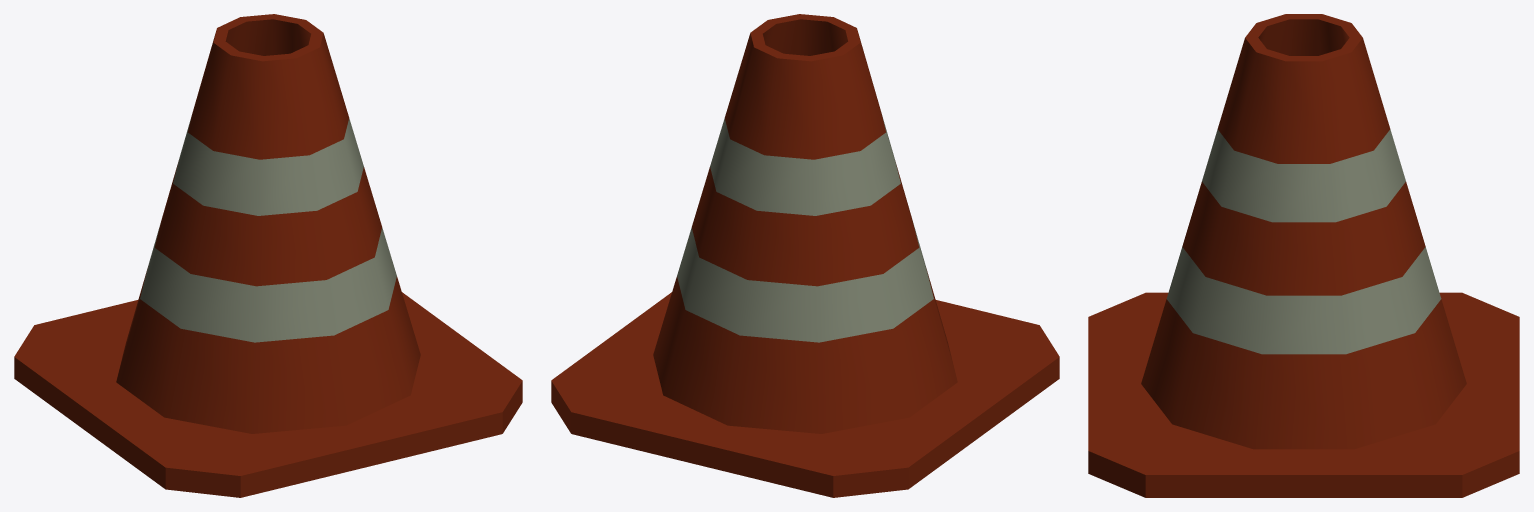
File: TrafficCone.obj
3 views of the same model, side by side, from view 1: azimuth 30°, elevation 25°; view 2: azimuth 150°, elevation 25°; view 3: azimuth 270°, elevation 25° (orthographic). The views are drawn at different scales.
Parts seen in each view (by area): view 1: TrafficCone_Cylinder.001; view 2: TrafficCone_Cylinder.001; view 3: TrafficCone_Cylinder.001.
Part boxes in pixels (left/top/right/bottom): TrafficCone_Cylinder.001: left=14, top=14, right=522, bottom=497; TrafficCone_Cylinder.001: left=551, top=14, right=1059, bottom=497; TrafficCone_Cylinder.001: left=1088, top=14, right=1519, bottom=497.
Bounding box in the file's own units: 0.6746 × 0.6367 × 0.6746.
